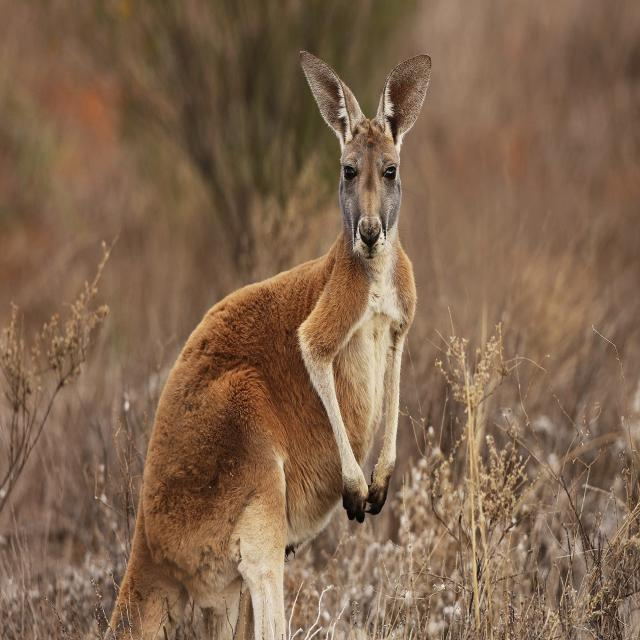kangaroo: (111, 52, 431, 640)
